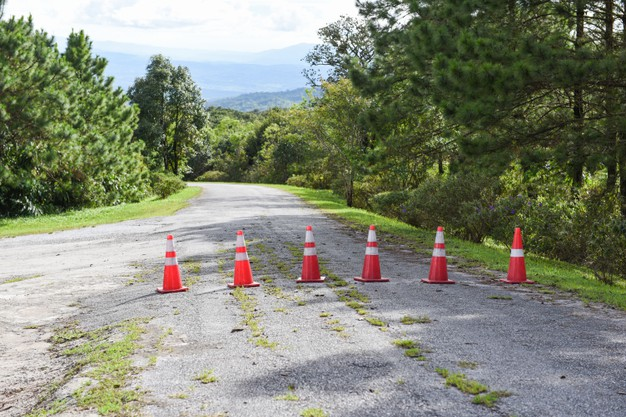cones: (155, 233, 191, 293), (497, 225, 533, 285), (420, 224, 456, 284), (354, 222, 390, 282), (290, 223, 326, 283), (223, 226, 259, 286)
